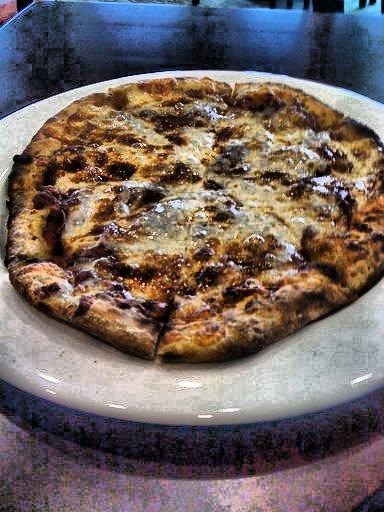pizza: (10, 72, 384, 376)
